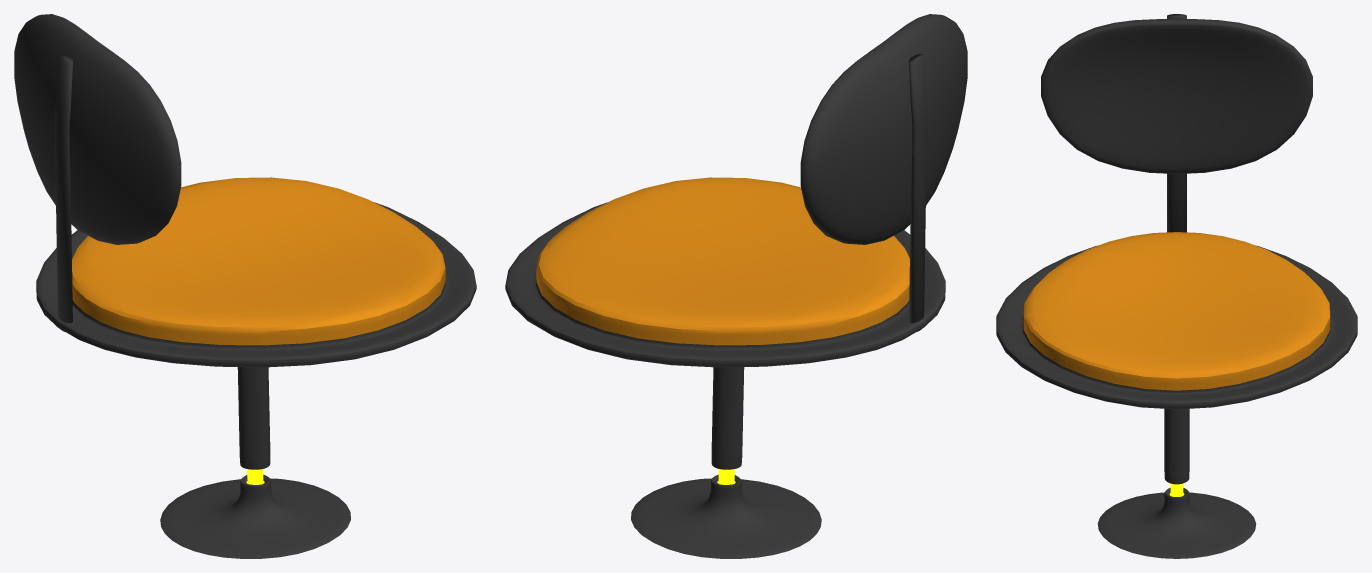
Rendered from chair.fbx.
The picture shows the model from 3 angles, left to right: view 1: azimuth 30°, elevation 25°; view 2: azimuth 150°, elevation 25°; view 3: azimuth 270°, elevation 25°; orthographic projection. The views are drawn at different scales.
Visible parts, largest first — view 1: Plane, Plane.001, Cylinder; view 2: Plane, Plane.001, Cylinder; view 3: Plane, Plane.001, Cylinder.
Boxes of the visible parts, x1=… form: Plane: x1=36, y1=177, x2=476, y2=558; Plane.001: x1=14, y1=14, x2=181, y2=244; Cylinder: x1=55, y1=54, x2=72, y2=331; Plane: x1=505, y1=177, x2=945, y2=558; Plane.001: x1=800, y1=14, x2=967, y2=244; Cylinder: x1=908, y1=54, x2=926, y2=331; Plane: x1=996, y1=232, x2=1357, y2=558; Plane.001: x1=1041, y1=19, x2=1312, y2=173; Cylinder: x1=1167, y1=14, x2=1186, y2=232.
Size of the model in its own units: 74.91 by 96.07 by 71.27.
